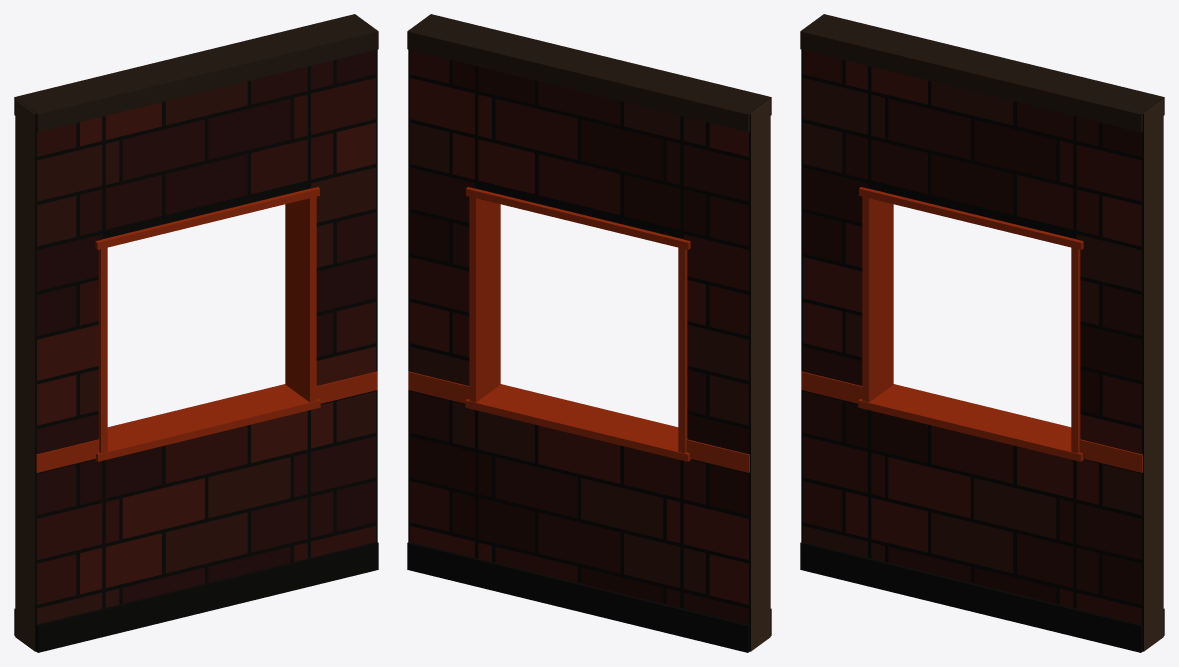
File: SM_Wall_Window_2x3_Hideout.glb
3 renders of one model, left to right at view 1: azimuth 30°, elevation 25°; view 2: azimuth 150°, elevation 25°; view 3: azimuth 330°, elevation 25°, orthographic.
Visible parts, largest first — view 1: SM_Wall_Window_2x3_Hideout-col; view 2: SM_Wall_Window_2x3_Hideout-col; view 3: SM_Wall_Window_2x3_Hideout-col.
Boxes of the visible parts, x1,y1,x2,y2 form: SM_Wall_Window_2x3_Hideout-col: (14, 14, 378, 652); SM_Wall_Window_2x3_Hideout-col: (407, 14, 771, 652); SM_Wall_Window_2x3_Hideout-col: (800, 14, 1164, 652).
Bounding box in the file's own units: 2 × 3 × 0.26.
